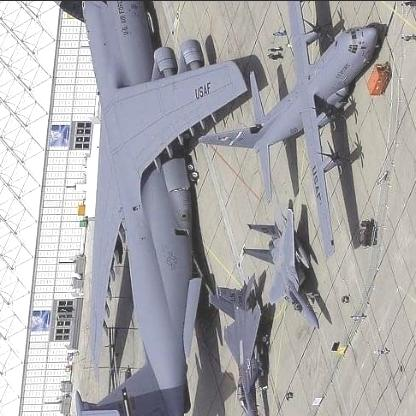Be200: (198, 1, 382, 258)
C17: (74, 1, 251, 415)
F117: (242, 207, 320, 330), (208, 271, 272, 415)
